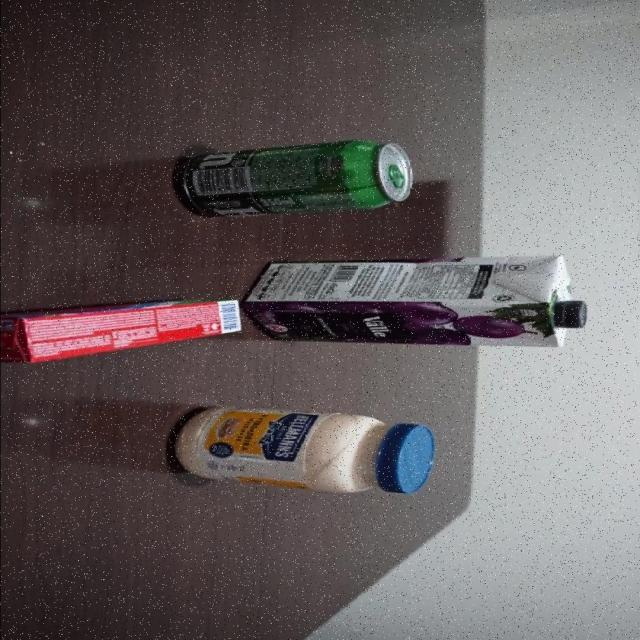BeerCan: (173, 140, 415, 220)
Mayonnaise: (170, 404, 437, 497)
Toothpaste: (0, 296, 240, 364)
